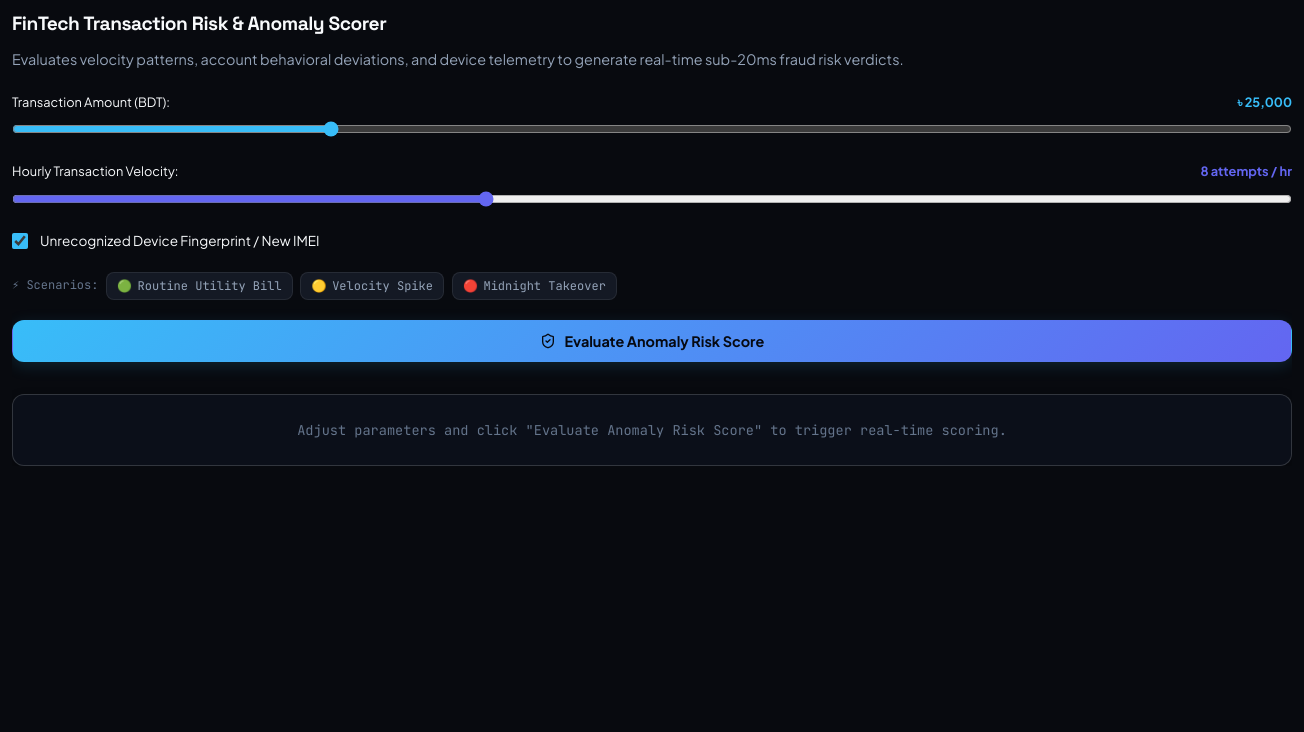
Test case: FraudScorerTab › computes a CRITICAL verdict for the risky default inputs
Click the button "Evaluate Anomaly Risk Score" at (652, 341), box [12, 320, 1292, 362]
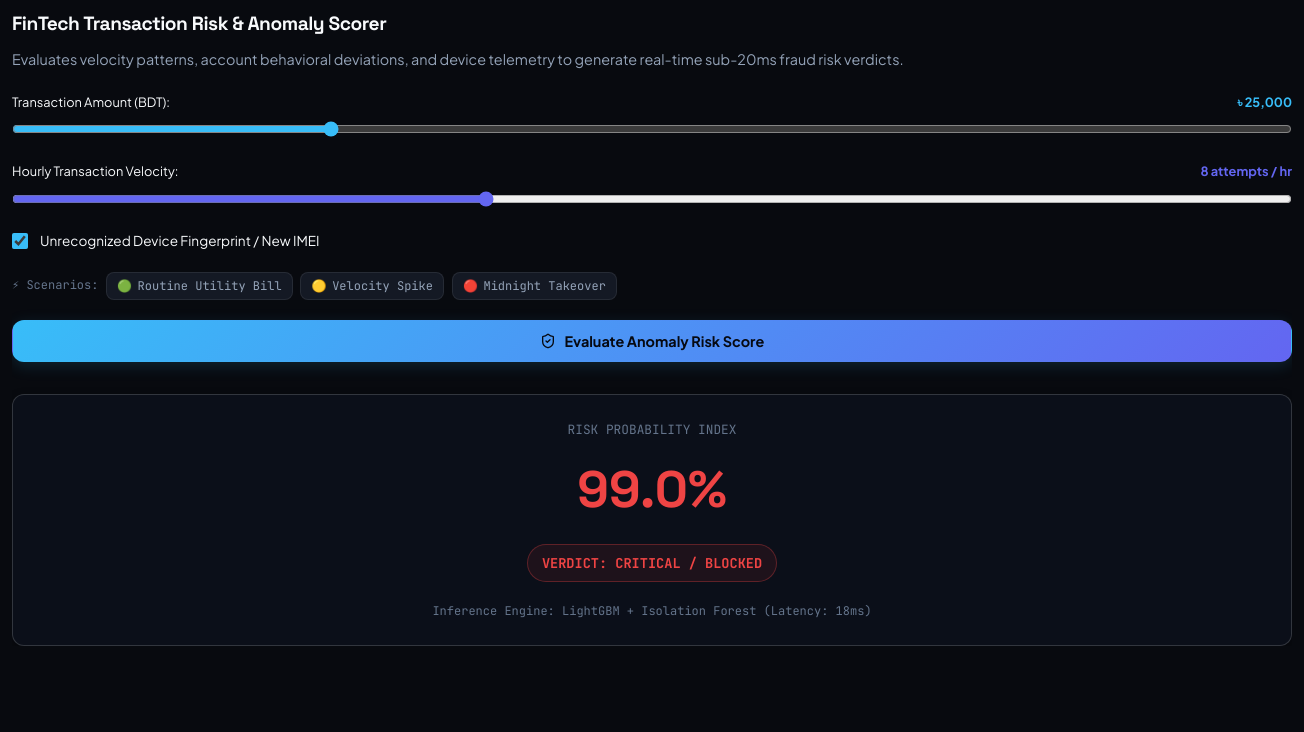
Now the text "VERDICT: CRITICAL / BLOCKED" is shown, box [527, 544, 777, 582]
